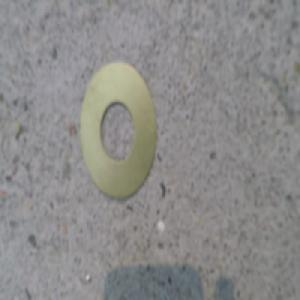Washer: (80, 63, 157, 202)
